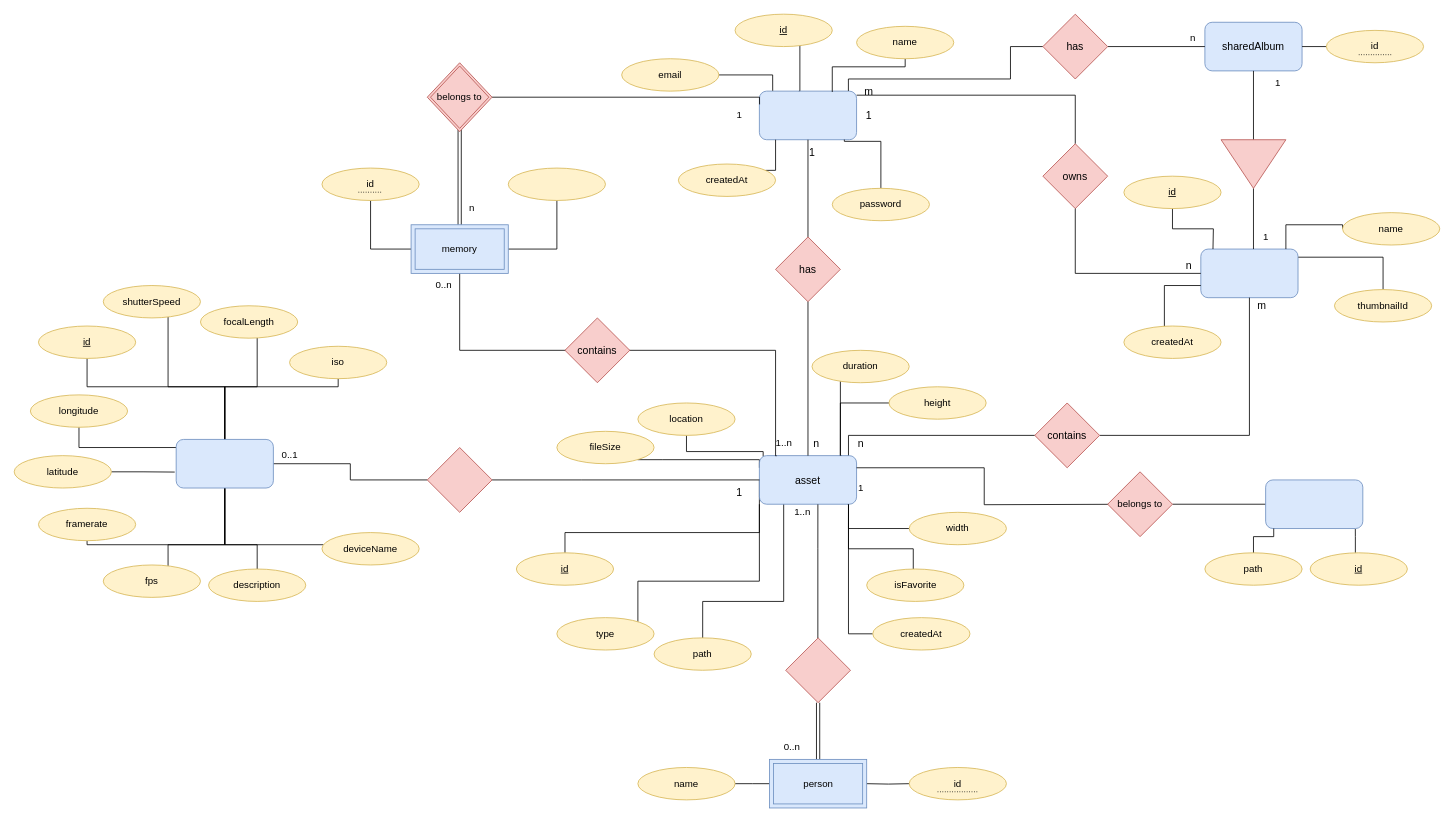
Image size: 1454x822. Some labels were removed from this diagram. Each missing label, with the box of its shape:
album: (1200, 248, 1298, 298)
appears in: (785, 637, 850, 703)
describes: (426, 447, 492, 512)
exif: (175, 439, 273, 488)
Is: (1220, 139, 1286, 188)
thumbnail: (1265, 479, 1363, 529)
title: (507, 167, 605, 200)
user: (759, 90, 857, 140)
